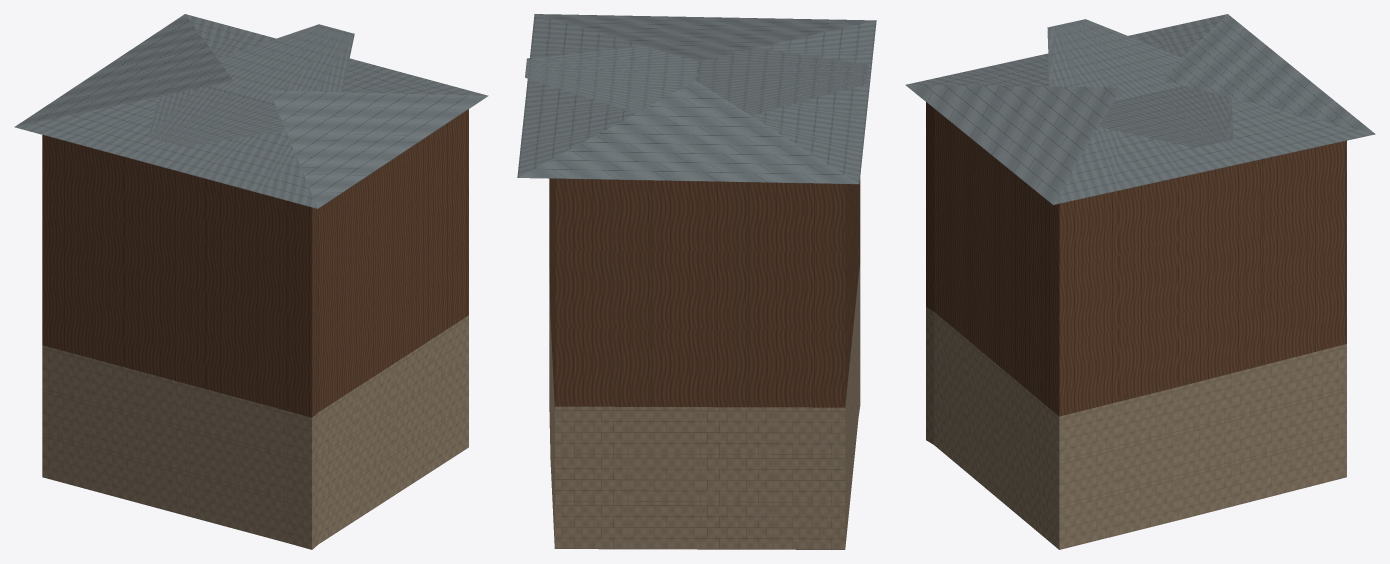
File: bld_c-4_17_535.gltf
3 views of the same model, side by side, from view 1: azimuth 30°, elevation 25°; view 2: azimuth 150°, elevation 25°; view 3: azimuth 270°, elevation 25° (orthographic). The views are drawn at different scales.
Parts seen in each view (by area): view 1: bld_c-4_17_535; view 2: bld_c-4_17_535; view 3: bld_c-4_17_535.
Part boxes in pixels (x1,y1,x2,y2): bld_c-4_17_535: (14,14,488,549); bld_c-4_17_535: (517,14,876,549); bld_c-4_17_535: (905,14,1375,549).
Bounding box in the file's own units: 15.68 × 14.5 × 16.31.
3 materials, 3 textured.
